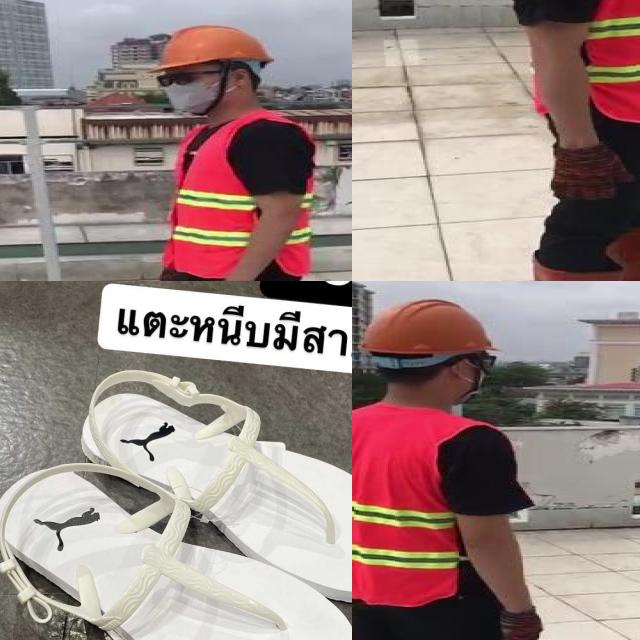Sandals: (0, 333, 352, 640)
boots: (606, 220, 640, 281)
face_mask: (155, 66, 219, 112)
glasses: (148, 68, 204, 90)
hand_glove: (547, 144, 633, 202), (492, 610, 542, 640), (158, 265, 190, 281)
head_helmet: (352, 294, 504, 359), (149, 21, 280, 71)
person: (352, 290, 581, 640), (146, 20, 352, 281), (488, 0, 640, 281)
vest: (166, 114, 320, 278), (352, 406, 468, 606), (527, 0, 640, 122)
